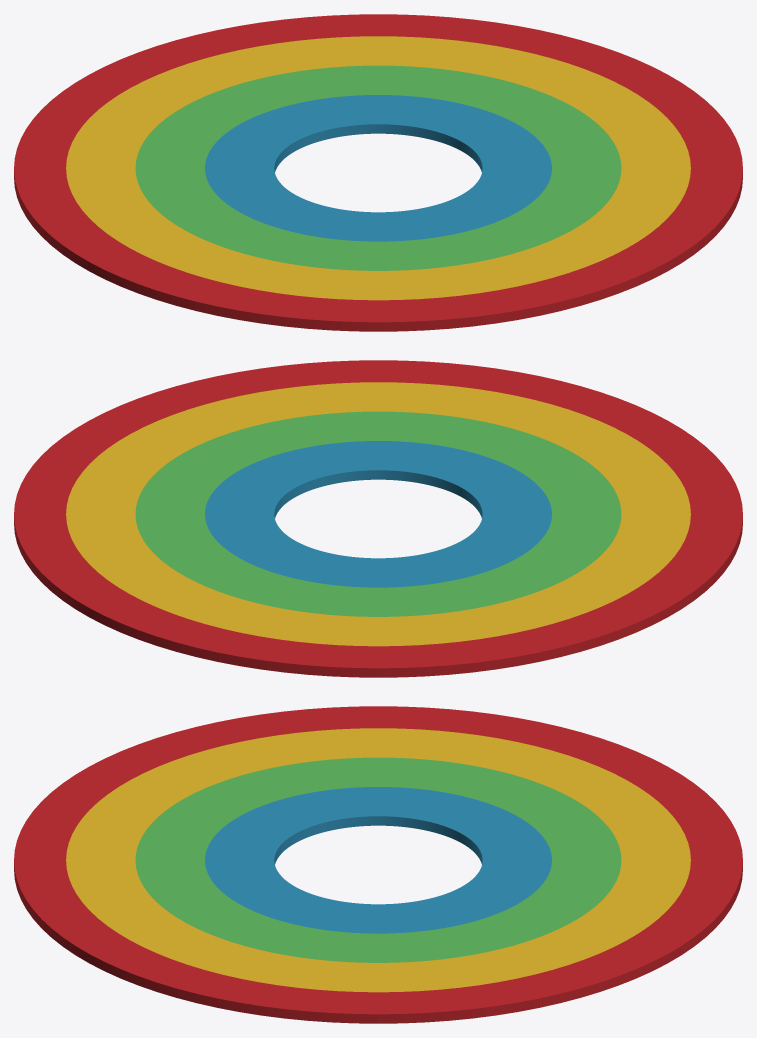
Rendered from impeller_pressure.glb.
The picture shows the model from 3 angles, top to bottom: view 1: azimuth 30°, elevation 25°; view 2: azimuth 150°, elevation 25°; view 3: azimuth 270°, elevation 25°; orthographic projection.
Visible parts, largest first — view 1: pressure__front, pressure__back; view 2: pressure__back, pressure__front; view 3: pressure__back, pressure__front.
Boxes of the visible parts, left/top/right/bottom form: pressure__front: left=63, top=91, right=742, bottom=331; pressure__back: left=14, top=14, right=693, bottom=254; pressure__back: left=14, top=437, right=693, bottom=677; pressure__front: left=63, top=360, right=742, bottom=600; pressure__back: left=378, top=706, right=742, bottom=1023; pressure__front: left=14, top=706, right=378, bottom=1023.
Bounding box in the file's own units: 0.42 × 0.006 × 0.42.
